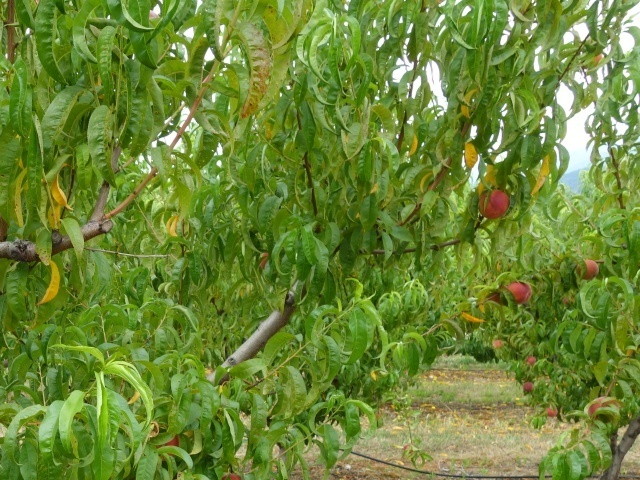peach: (474, 184, 514, 224), (503, 277, 534, 307), (573, 255, 603, 285)
